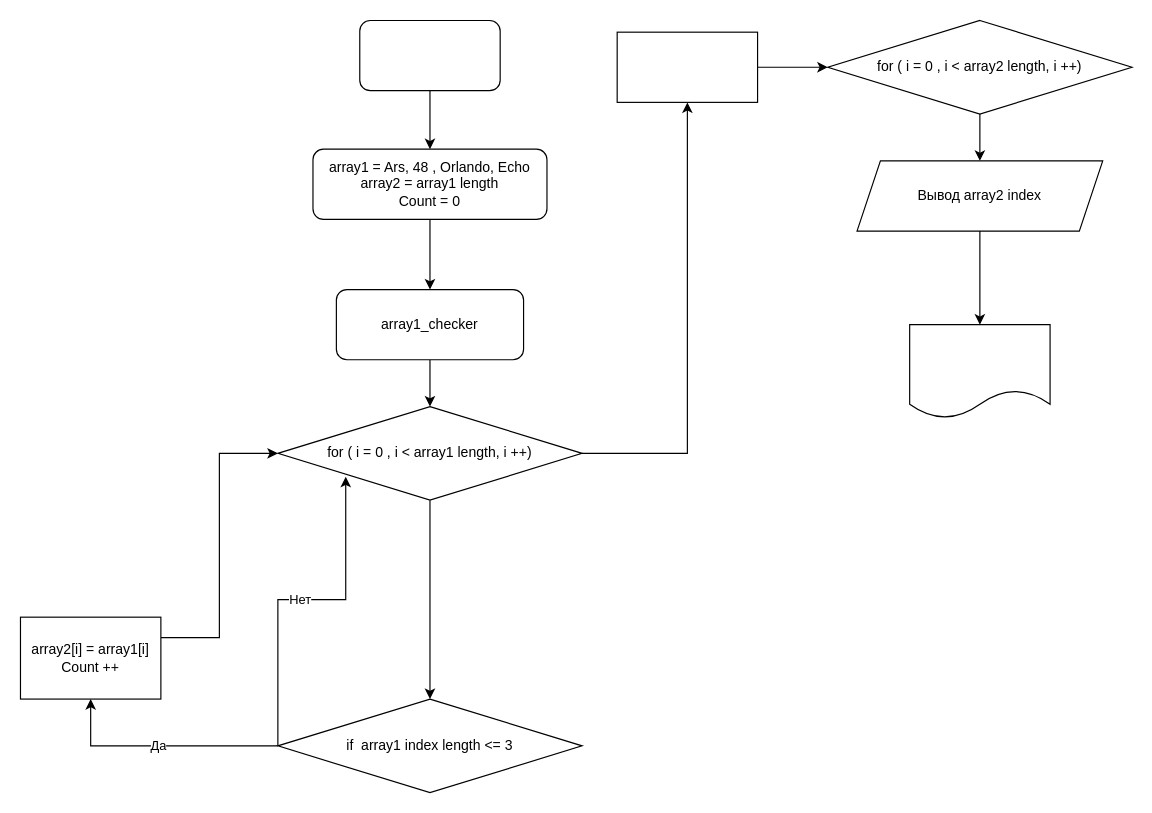
The diagram is 1152 pixels wide and 813 high, and some of its shapes have lost their labels. The shapes that lost their labels are listed below. From the top down, each one's box as (x1, y1, x2, y2) in pixels, then its label:
(359, 19, 500, 91): Начало
(616, 31, 758, 102): ArrayPrint
(909, 324, 1050, 418): Конец
